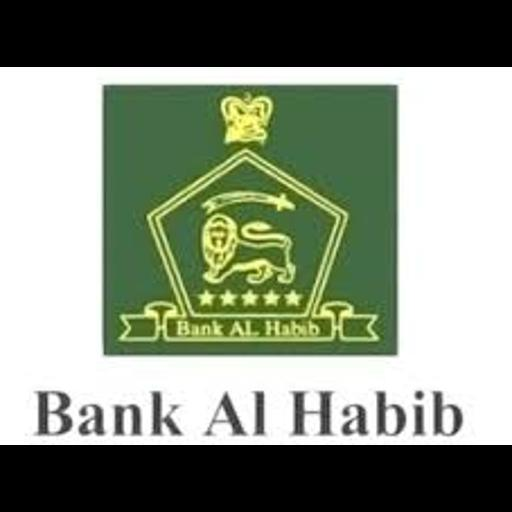Bank Al Habib: (0, 67, 512, 445)
